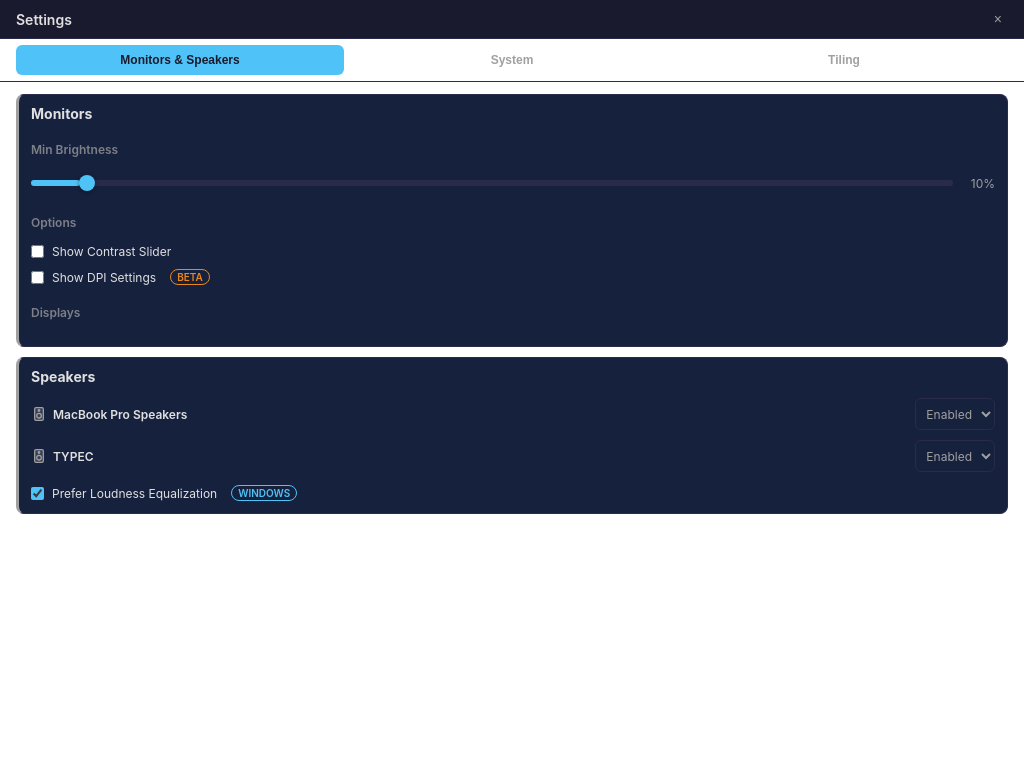
Test case: SettingsPanel › warns standard Windows sessions that elevated windows need an administrator restart
Click the button "Tiling": (844, 60) [680,45,1008,75]
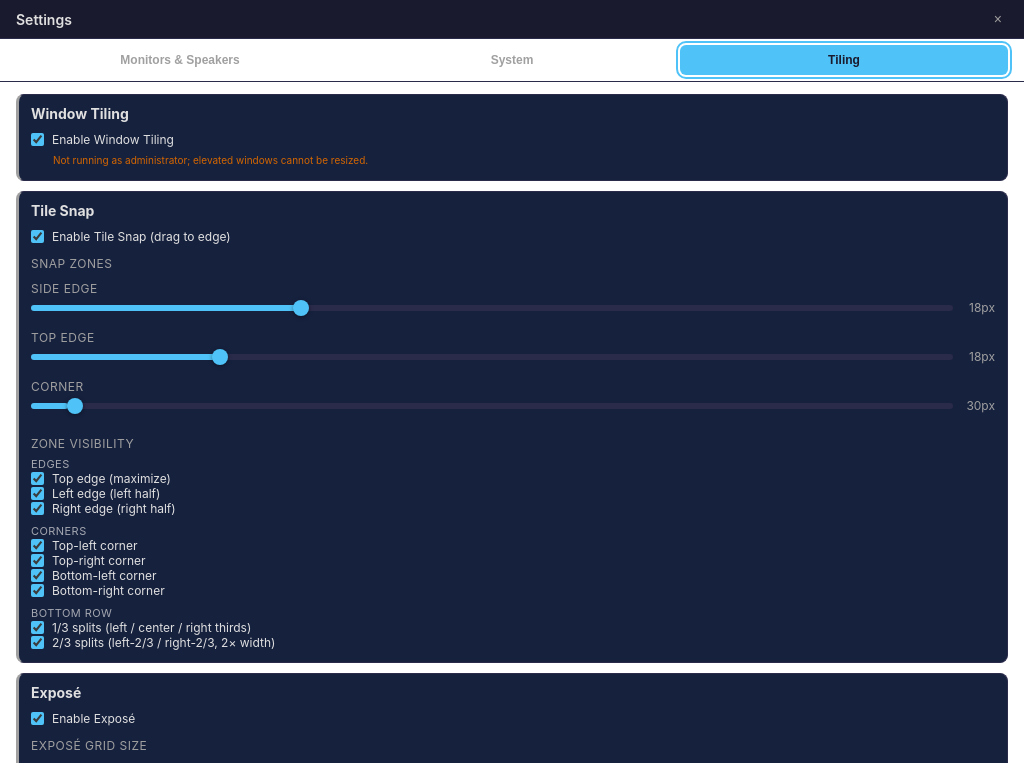
Expected: the checkbox labelled "Enable Window Tiling" is enabled, [31,133,44,146]
Now the text "Not running as administrator; elevated windows cannot be resized." is shown, box [53,154,368,168]
